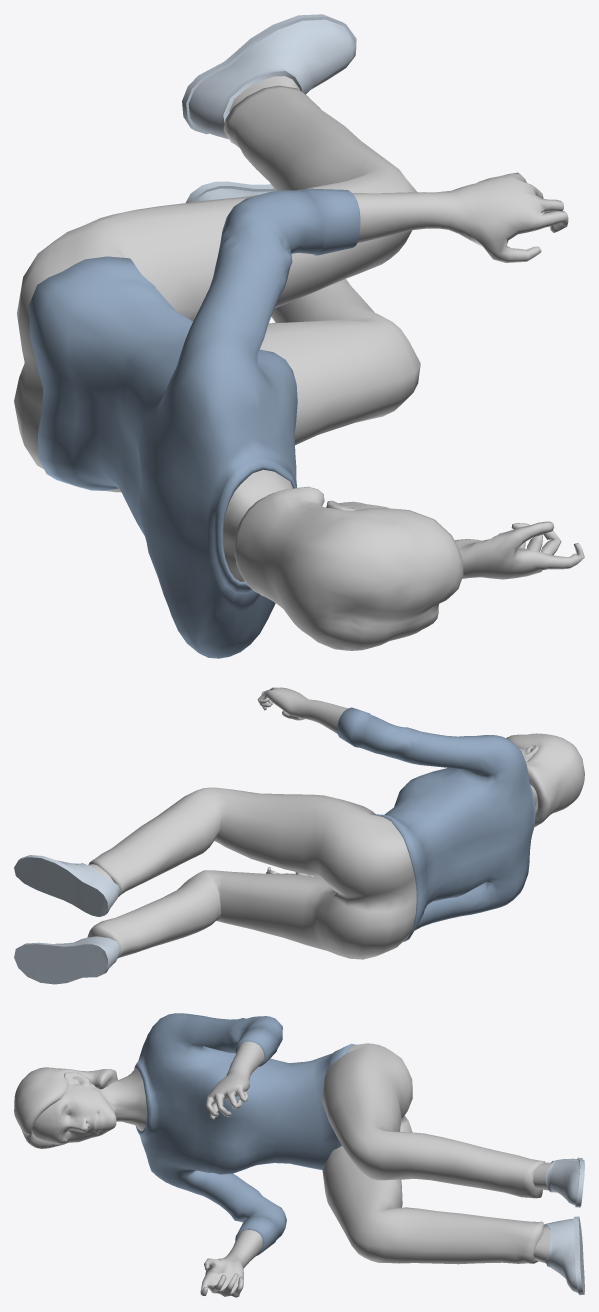
The model's file is Caucasian_Female.obj.
3 views of the same model, one above another, from view 1: azimuth 30°, elevation 25°; view 2: azimuth 150°, elevation 25°; view 3: azimuth 270°, elevation 25° (orthographic). The views are drawn at different scales.
Parts seen in each view (by area): view 1: European_Cab_OVer_FemaleCaucasian; view 2: European_Cab_OVer_FemaleCaucasian; view 3: European_Cab_OVer_FemaleCaucasian.
Boxes of the visible parts, box(x1,y1,x2,y2) form: European_Cab_OVer_FemaleCaucasian: box(14, 14, 584, 658); European_Cab_OVer_FemaleCaucasian: box(14, 687, 584, 984); European_Cab_OVer_FemaleCaucasian: box(14, 1013, 584, 1297).
Size of the model in its own units: 0.8556 by 0.5898 by 1.39.
